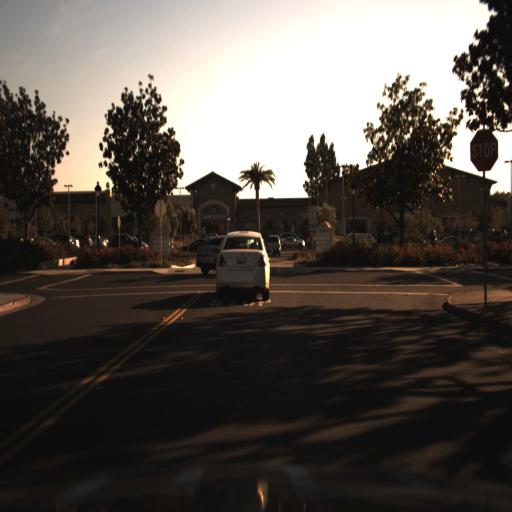car: (212, 224, 275, 303), (108, 235, 145, 253), (181, 235, 211, 256), (278, 235, 306, 255), (278, 232, 306, 250), (265, 232, 284, 258)
